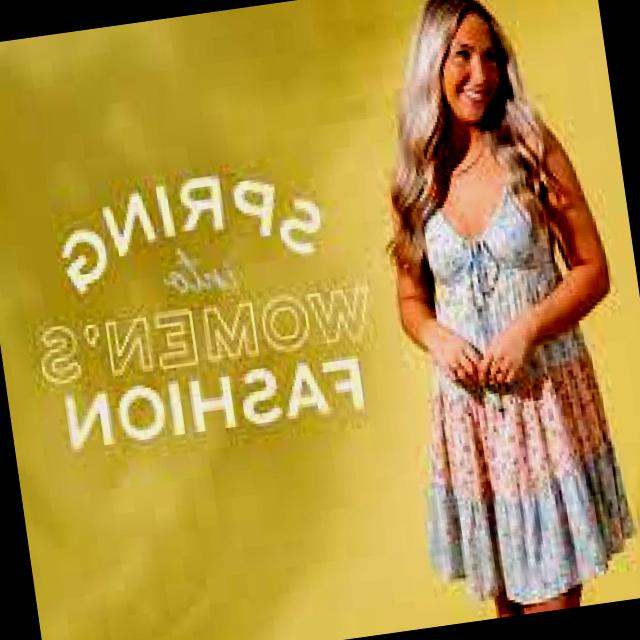dress: (426, 324, 633, 605)
